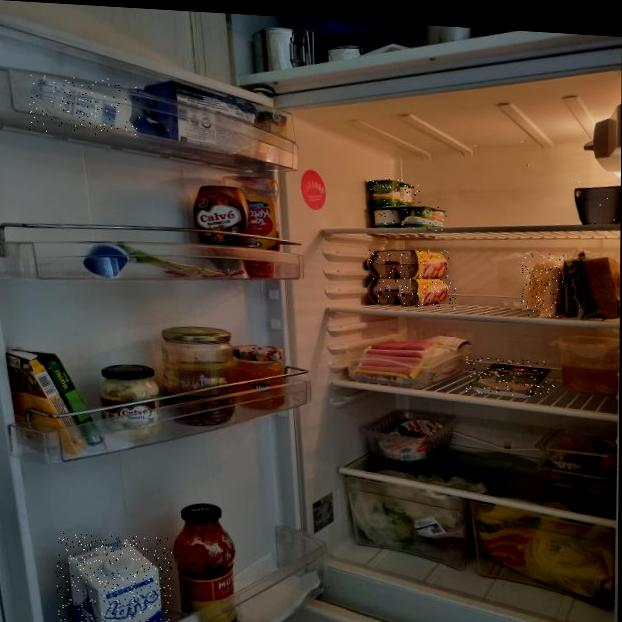butter: (28, 74, 142, 137)
cheese: (466, 357, 555, 398), (521, 252, 566, 319)
eggs: (369, 246, 450, 283), (369, 275, 457, 309)
milk: (55, 532, 172, 622)
yoghurt: (575, 180, 621, 229), (373, 203, 449, 231), (368, 177, 420, 209)
